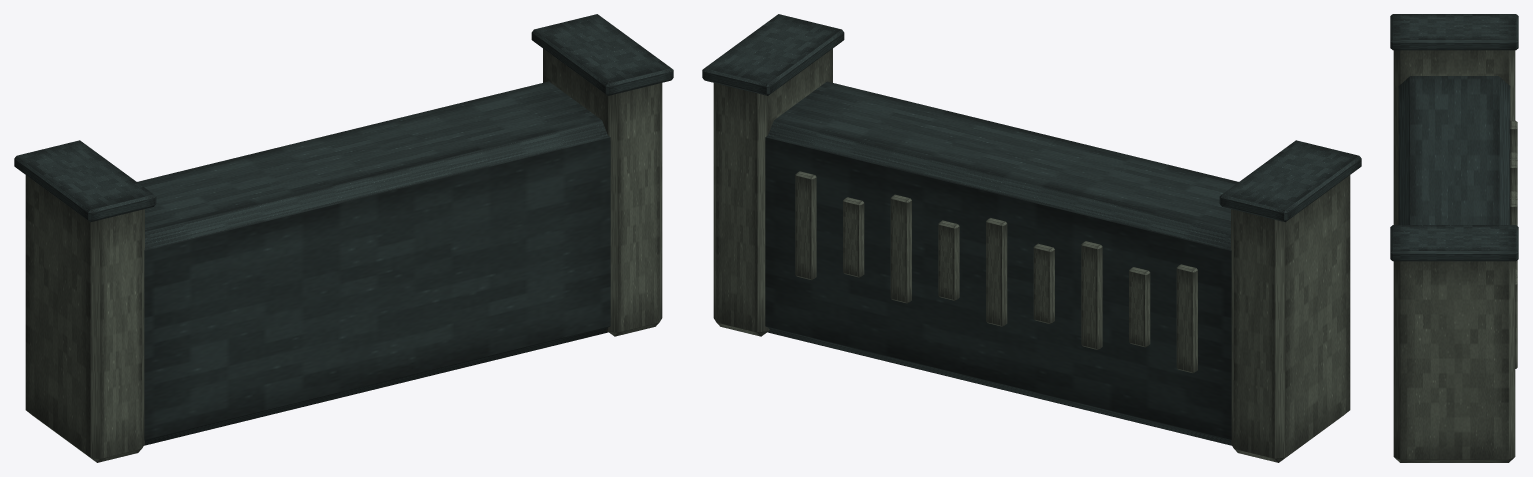
File: THStage_SealedArchiveRelief.fbx
The picture shows the model from 3 angles, left to right: view 1: azimuth 30°, elevation 25°; view 2: azimuth 150°, elevation 25°; view 3: azimuth 270°, elevation 25°; orthographic projection. The views are drawn at different scales.
Parts seen in each view (by area): view 1: THStage_SealedArchiveRelief.009; view 2: THStage_SealedArchiveRelief.009; view 3: THStage_SealedArchiveRelief.009.
Part boxes in pixels (x1,y1,x2,y2): THStage_SealedArchiveRelief.009: (14,14,673,462); THStage_SealedArchiveRelief.009: (702,14,1361,462); THStage_SealedArchiveRelief.009: (1390,14,1518,462).
Size of the model in its own units: 1.72 by 0.7275 by 0.39.
Materials: 2 (1 with a texture image).
